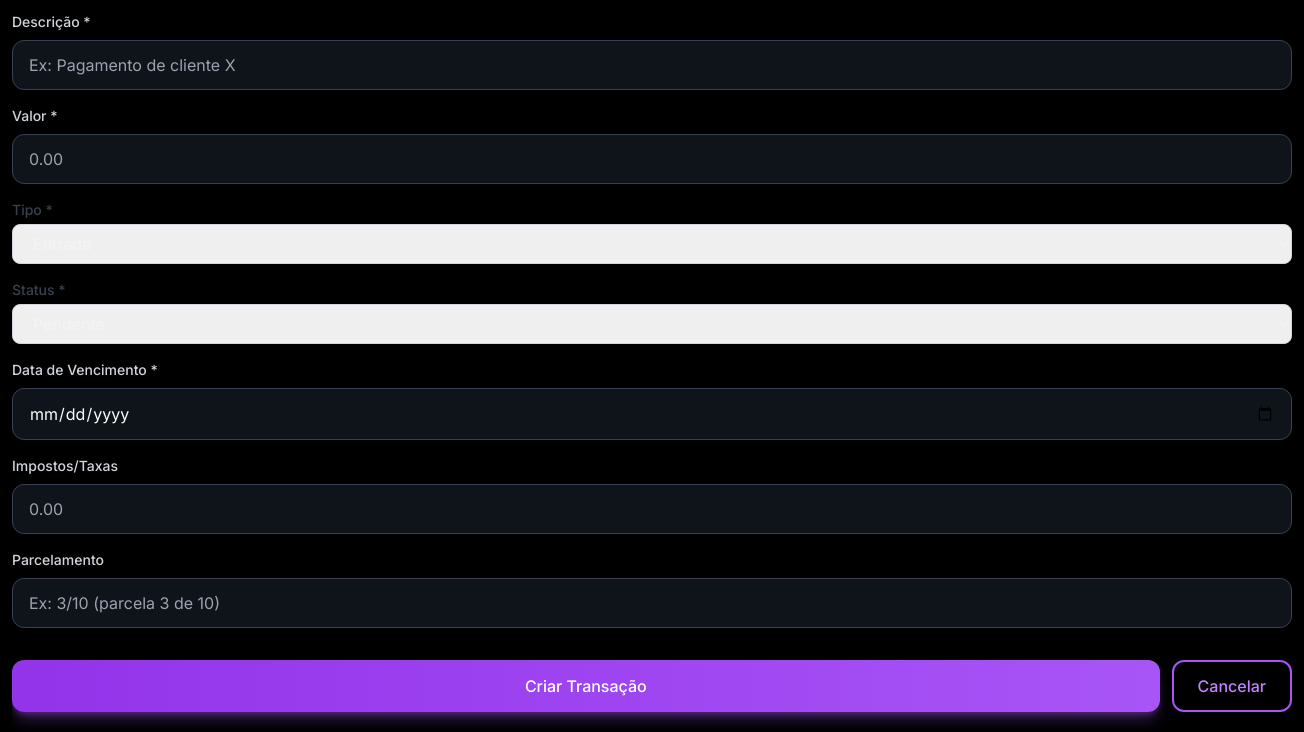
Test: TransactionForm Component › should display validation error for missing required fields
This screenshot has width=1304, height=732.
Click the button "Criar Transação" at (586, 686), box [12,660,1160,712]
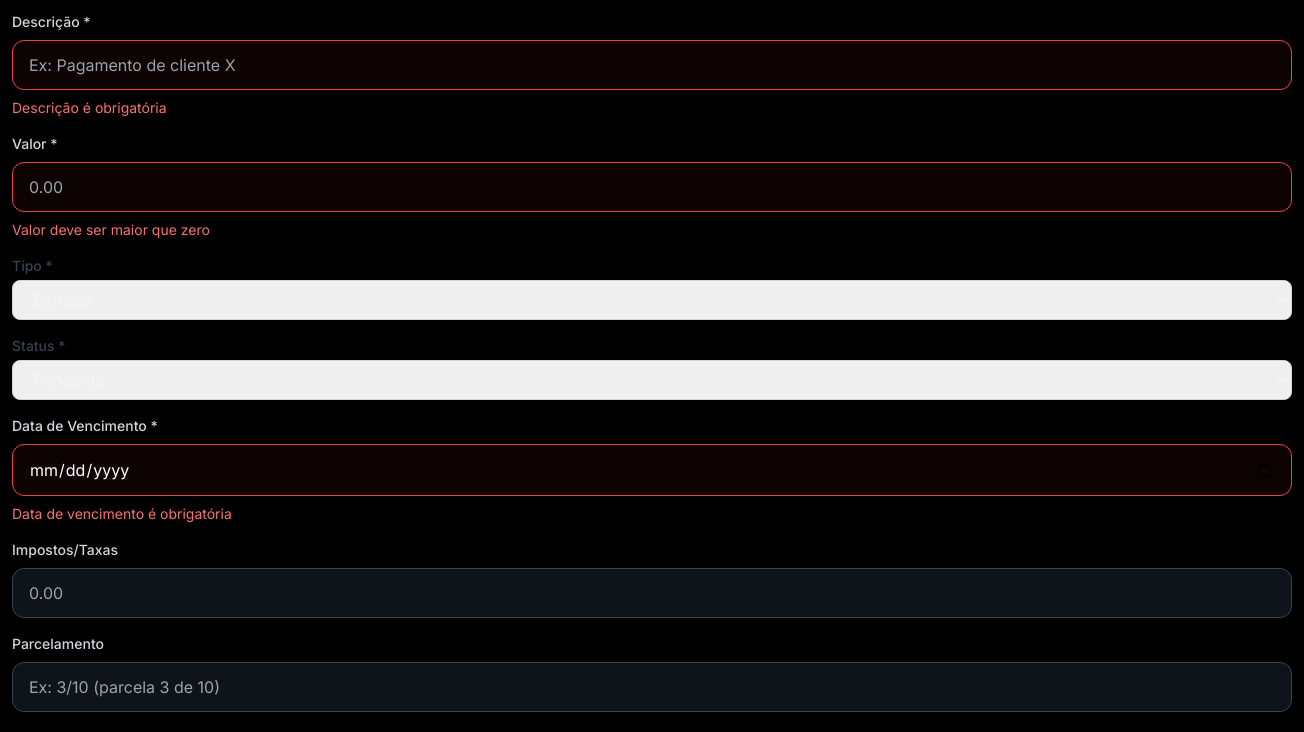
Now the text "Valor deve ser maior que zero" is shown, box [12,221,210,238]
Now the text "Data de vencimento é obrigatória" is shown, box [12,505,232,522]
Now the text "Descrição é obrigatória" is shown, box [12,99,167,116]
